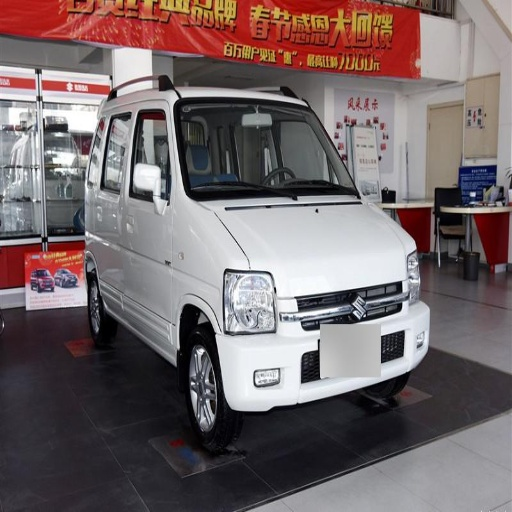front_bumper: (218, 280, 429, 411)
front_right_door: (124, 106, 173, 337)
front_right_light: (223, 271, 283, 333)
hood: (191, 200, 406, 296)
